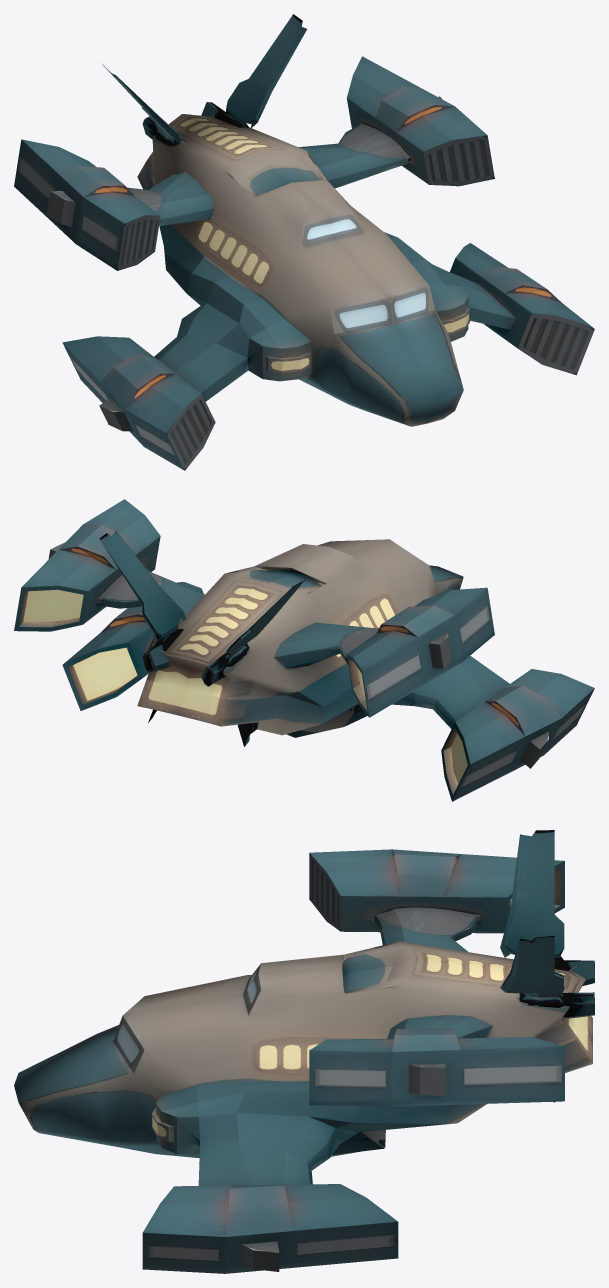
File: vehicle_spacecraft_ship_destroyer_001_gr_mesh.FBX
3 views of the same model, one above another, from view 1: azimuth 30°, elevation 25°; view 2: azimuth 150°, elevation 25°; view 3: azimuth 270°, elevation 25° (orthographic). The views are drawn at different scales.
Parts seen in each view (by area): view 1: vehicle_spacecraft_ship_destroyer_001_gr; view 2: vehicle_spacecraft_ship_destroyer_001_gr; view 3: vehicle_spacecraft_ship_destroyer_001_gr.
Part boxes in pixels (box(x1,y1,x2,y2)): vehicle_spacecraft_ship_destroyer_001_gr: box(14, 14, 594, 470); vehicle_spacecraft_ship_destroyer_001_gr: box(14, 499, 594, 801); vehicle_spacecraft_ship_destroyer_001_gr: box(14, 830, 594, 1273).
Size of the model in its own units: 6.13 by 3.35 by 6.26.
